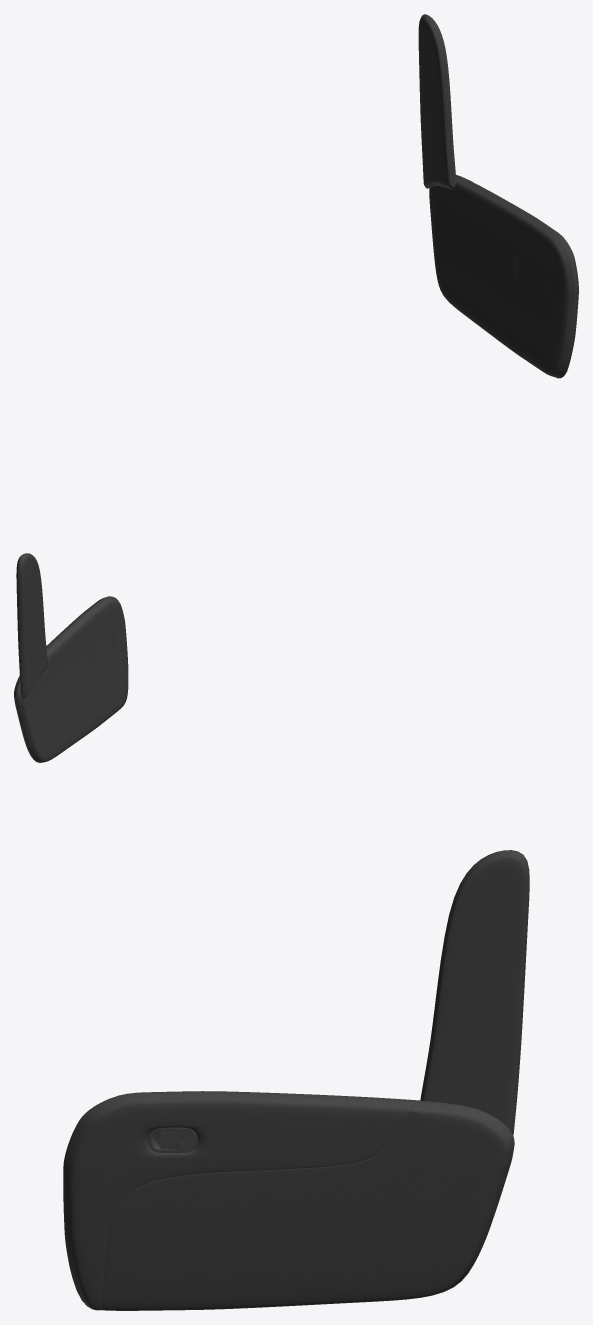
The model's file is officechair_small1.glb.
3 renders of one model, top to bottom at view 1: azimuth 30°, elevation 25°; view 2: azimuth 150°, elevation 25°; view 3: azimuth 270°, elevation 25°, orthographic. The views are drawn at different scales.
Parts seen in each view (by area): view 1: Mesh13_Leather_05_0, Mesh12_Leather_05_0; view 2: Mesh13_Leather_05_0, Mesh12_Leather_05_0; view 3: Mesh13_Leather_05_0, Mesh12_Leather_05_0, Mesh1_Plastic_03_0.
Boxes of the visible parts, x1,y1,x2,y2 form: Mesh13_Leather_05_0: [429, 175, 578, 378]; Mesh12_Leather_05_0: [418, 14, 456, 189]; Mesh13_Leather_05_0: [14, 596, 128, 762]; Mesh12_Leather_05_0: [16, 553, 47, 698]; Mesh13_Leather_05_0: [63, 1091, 514, 1310]; Mesh12_Leather_05_0: [420, 850, 529, 1135]; Mesh1_Plastic_03_0: [148, 1127, 197, 1152].
Size of the model in its own units: 2043 by 983 by 883.
3 materials, 3 textured.
